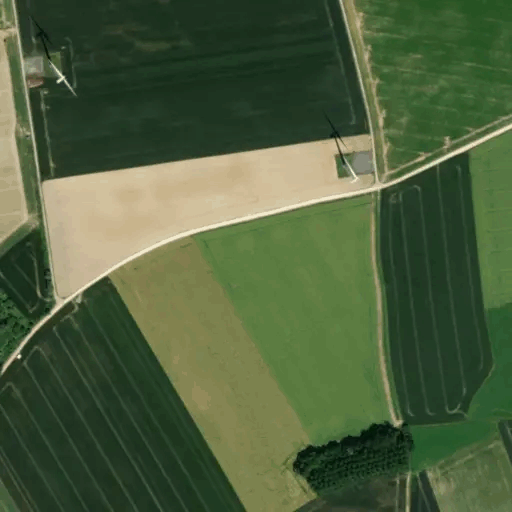wt: (24, 16, 80, 101), (319, 107, 364, 188)
